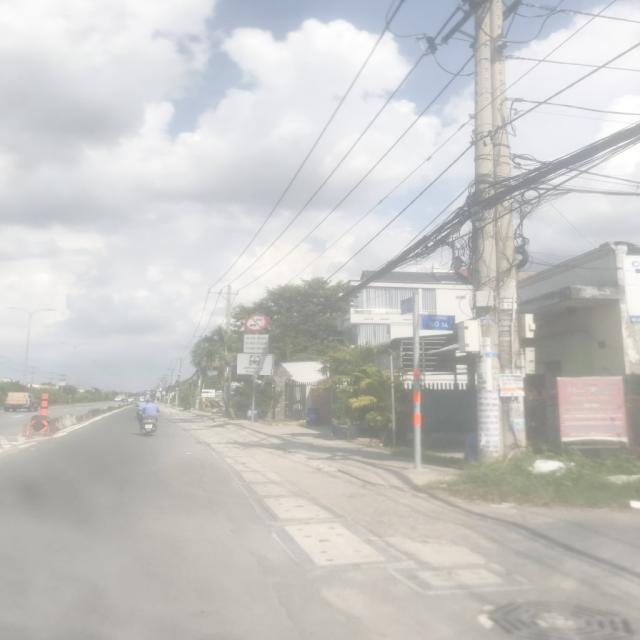cam_o_to_tai_va_xe_khach: (245, 314, 270, 333)
khac: (238, 354, 274, 375), (244, 334, 268, 353)
